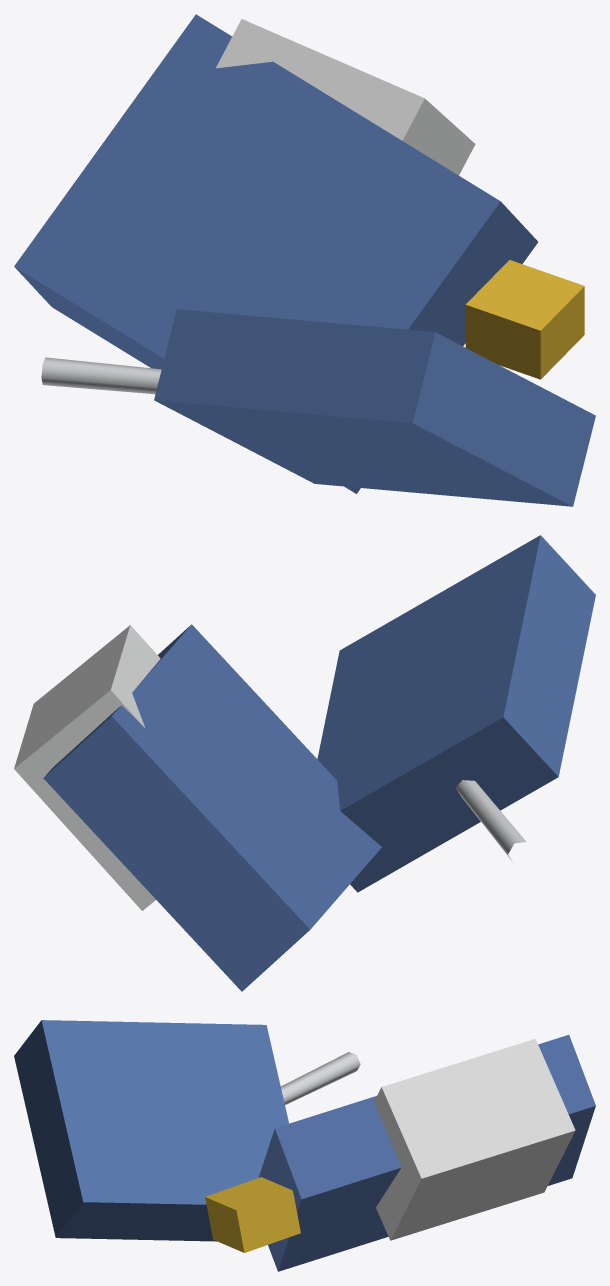
File: shrimp-boat-wreck.glb
3 renders of one model, top to bottom at view 1: azimuth 30°, elevation 25°; view 2: azimuth 150°, elevation 25°; view 3: azimuth 270°, elevation 25°, orthographic. The views are drawn at different scales.
Parts seen in each view (by area): view 1: Root; view 2: Root; view 3: Root.
Part boxes in pixels (left/top/right/bottom): Root: left=14, top=14, right=595, bottom=506; Root: left=14, top=535, right=595, bottom=991; Root: left=14, top=1020, right=595, bottom=1271.
Size of the model in its own units: 6.43 by 4.27 by 8.87.
